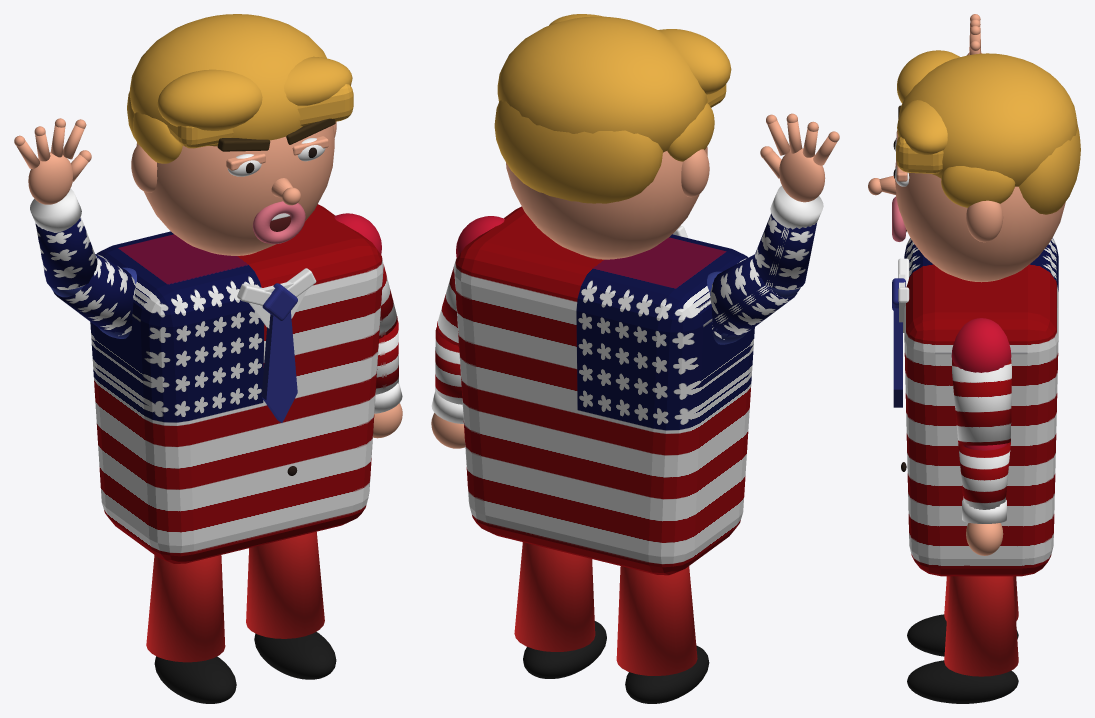
Rendered from character.glb.
The picture shows the model from 3 angles, left to right: view 1: azimuth 30°, elevation 25°; view 2: azimuth 150°, elevation 25°; view 3: azimuth 270°, elevation 25°; orthographic projection. The views are drawn at different scales.
Visible parts, largest first — view 1: Torso, Head, HairCap, LegRMesh, LegLMesh, QuiffL, UpperArmR, ForeArmR, Tie, ShoeR, ShoeL, QuiffR (+12 smaller); view 2: Torso, HairCap, HairBack, Head, LegRMesh, LegLMesh, UpperArmR, ForeArmR, QuiffL, ShoeR, ShoeL, PalmR (+8 smaller); view 3: Torso, HairCap, Head, LegLMesh, UpperArmL, ShoeL, HairBack, ForeArmL, ShoulderL, SideL, QuiffR, QuiffL (+7 smaller).
Part boxes in pixels (x1,y1,x2,y2): Torso: (90, 204, 383, 563); Head: (136, 125, 334, 255); HairCap: (130, 14, 326, 146); LegRMesh: (146, 555, 225, 662); LegLMesh: (246, 531, 324, 638); QuiffL: (157, 69, 262, 130); UpperArmR: (53, 254, 135, 335); ForeArmR: (35, 216, 97, 289); Tie: (261, 311, 297, 422); ShoeR: (154, 656, 236, 703); ShoeL: (254, 631, 336, 679); QuiffR: (284, 56, 352, 105); Torso: (454, 206, 754, 575); HairCap: (497, 16, 707, 152); HairBack: (494, 100, 662, 203); Head: (506, 147, 707, 258); LegRMesh: (616, 566, 697, 675); LegLMesh: (514, 542, 595, 651); UpperArmR: (710, 254, 797, 339); ForeArmR: (753, 213, 816, 290); QuiffL: (658, 29, 731, 94); ShoeR: (625, 645, 709, 703); ShoeL: (523, 621, 606, 678); PalmR: (779, 148, 825, 202); Torso: (904, 238, 1058, 576); HairCap: (898, 53, 1077, 186); Head: (895, 159, 1065, 282); LegLMesh: (944, 576, 1018, 676); UpperArmL: (952, 359, 1011, 445); ShoeL: (907, 660, 1018, 703); HairBack: (1018, 126, 1080, 214); ForeArmL: (958, 442, 1010, 509); ShoulderL: (951, 318, 1011, 372); SideL: (941, 166, 1015, 207); QuiffR: (897, 100, 947, 154); QuiffL: (897, 50, 960, 103).
Size of the model in its own units: 1.15 by 1.82 by 0.5754.
Materials: 14 (1 with a texture image).
